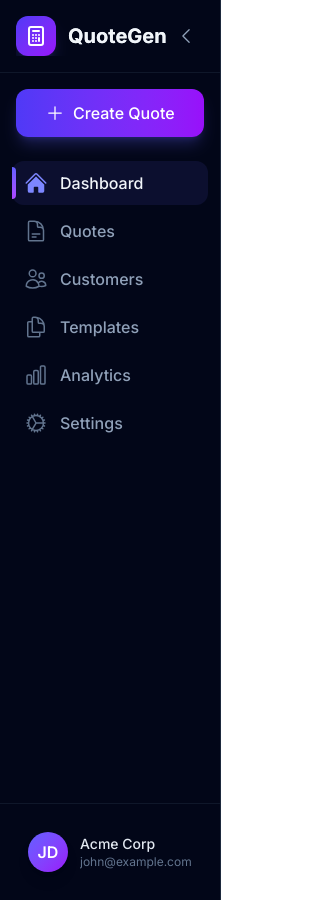
Test: Sidebar Interactions › Create Menu Interactions › opens create menu when button clicked
What coordinates should you click on to do the following:
click the button "Create Quote"
I would click on:
 (110, 113)
Its box is top-left (16, 89), bottom-right (204, 137).
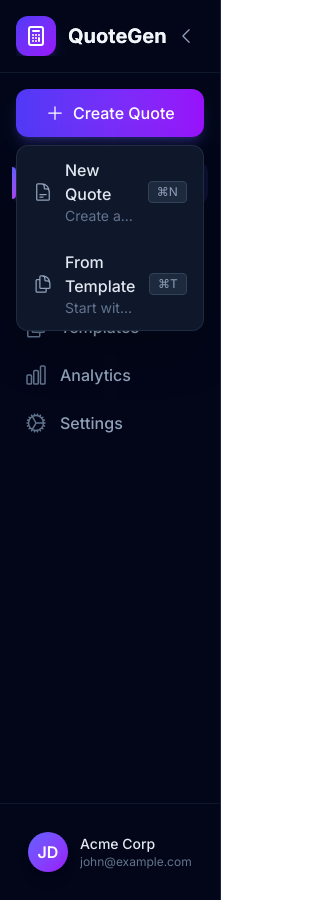
Expected: the menu named "Create new" is shown, top-left (16, 145), bottom-right (204, 331)
